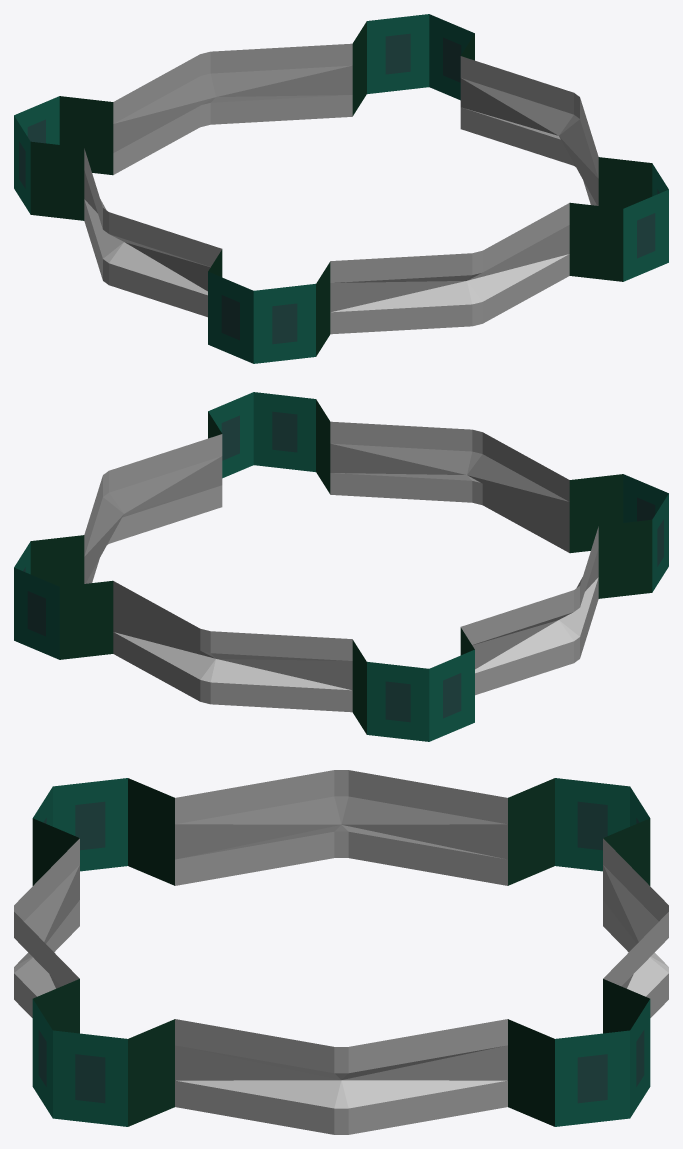
The model's file is TB_CITY_Skysc_L_Divider_Green.FBX.
3 views of the same model, one above another, from view 1: azimuth 30°, elevation 25°; view 2: azimuth 150°, elevation 25°; view 3: azimuth 270°, elevation 25° (orthographic). The views are drawn at different scales.
Visible parts, largest first — view 1: TB_CITY_Skysc_L_Divider_Green; view 2: TB_CITY_Skysc_L_Divider_Green; view 3: TB_CITY_Skysc_L_Divider_Green.
Part boxes in pixels (box(x1,y1,x2,y2)): TB_CITY_Skysc_L_Divider_Green: box(14, 14, 668, 363); TB_CITY_Skysc_L_Divider_Green: box(14, 392, 668, 741); TB_CITY_Skysc_L_Divider_Green: box(14, 770, 668, 1134).
Bounding box in the file's own units: 33.69 × 5 × 33.69.
